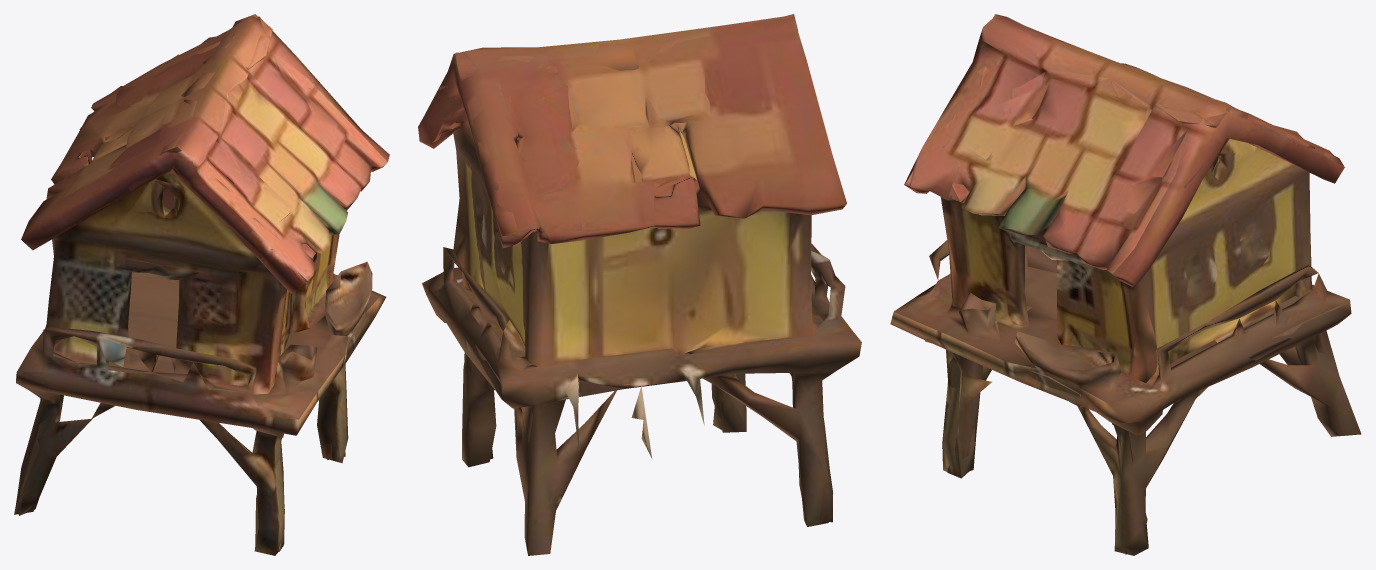
The model's file is fishery.glb.
The picture shows the model from 3 angles, left to right: view 1: azimuth 30°, elevation 25°; view 2: azimuth 150°, elevation 25°; view 3: azimuth 270°, elevation 25°; orthographic projection. The views are drawn at different scales.
Parts seen in each view (by area): view 1: level; view 2: level; view 3: level.
Boxes of the visible parts, <box> form: level: <box>14,14,389,555</box>; level: <box>418,14,861,555</box>; level: <box>890,14,1361,555</box>.
Size of the model in its own units: 0.7937 by 0.8138 by 0.8109.
Materials: 1 (1 with a texture image).
